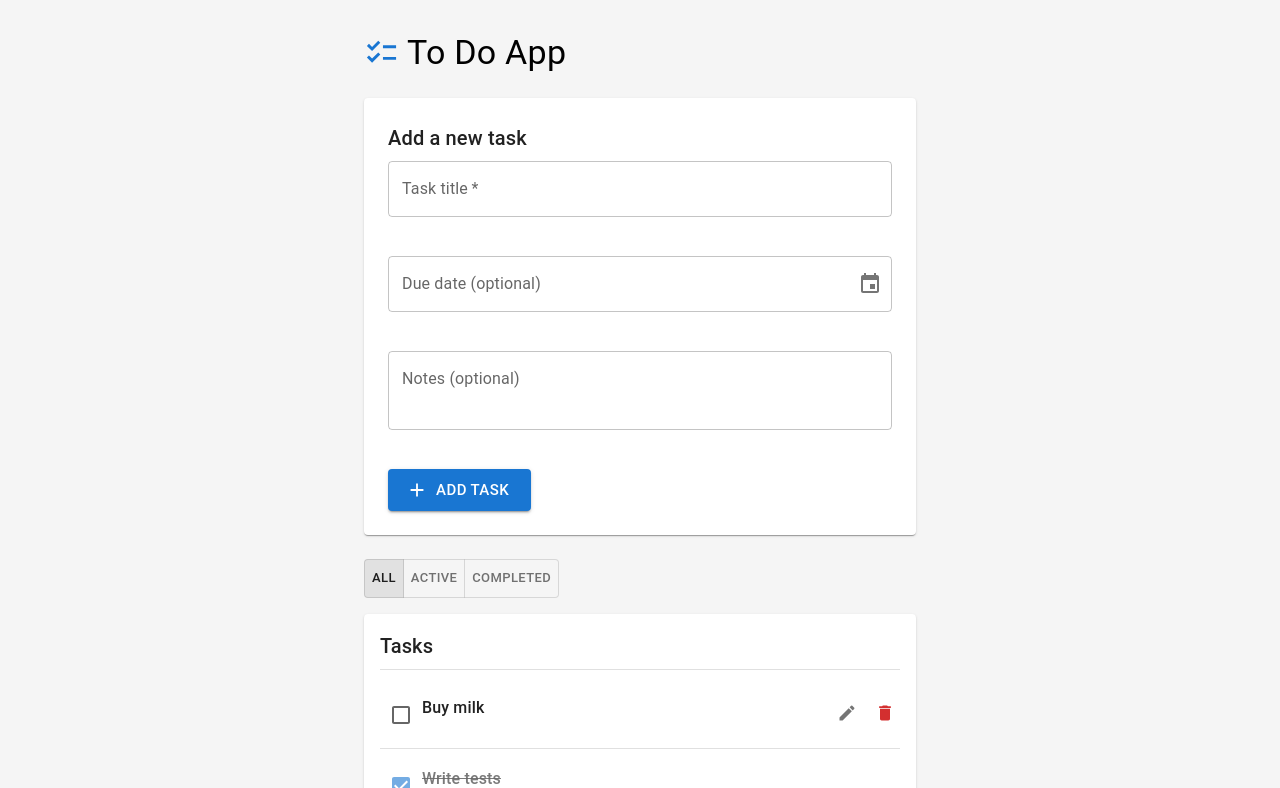
Scenario: App › opens and saves the edit dialog
Click the button named "edit task: buy milk".
click(847, 713)  # box [832,698,862,728]
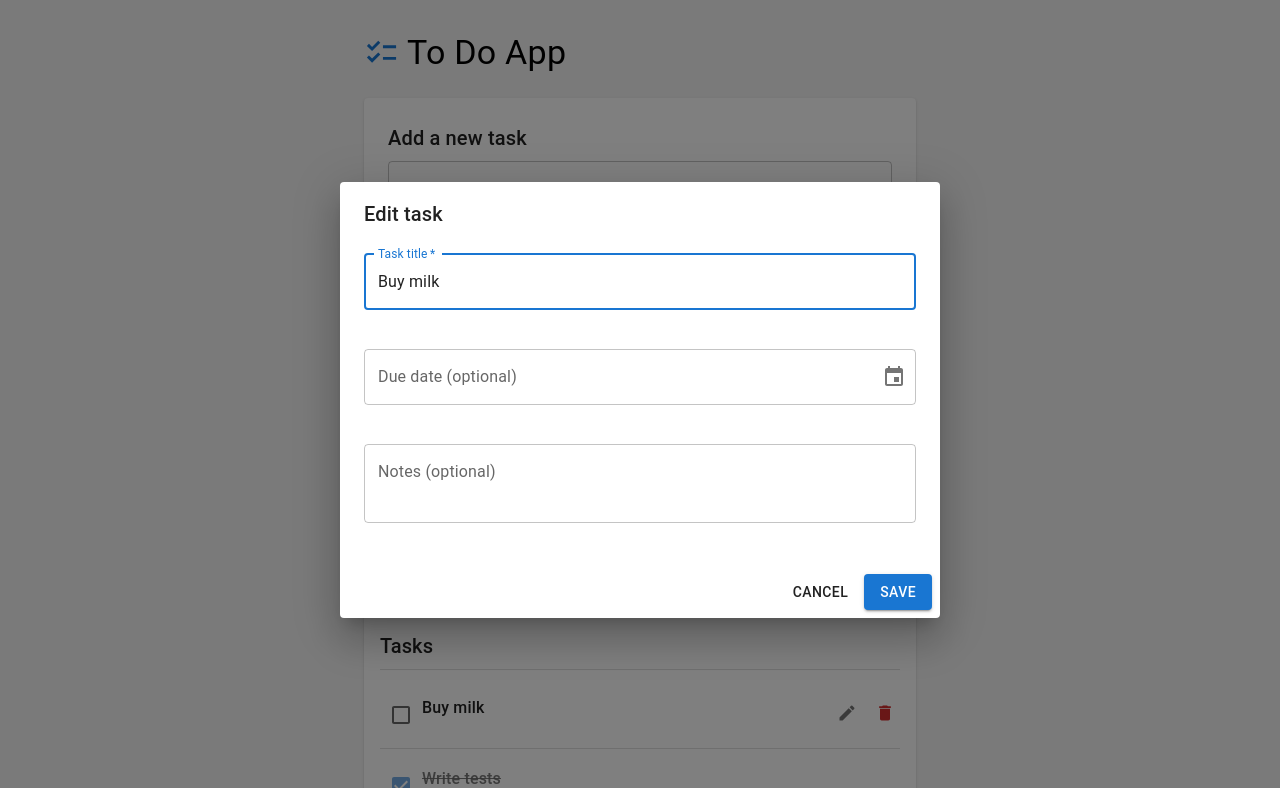
Expected: the field showing "Buy milk" is shown
Replace the text in the field labelled "Task title *" with "Buy oat milk" at (640, 282), box [364,254,916,310]
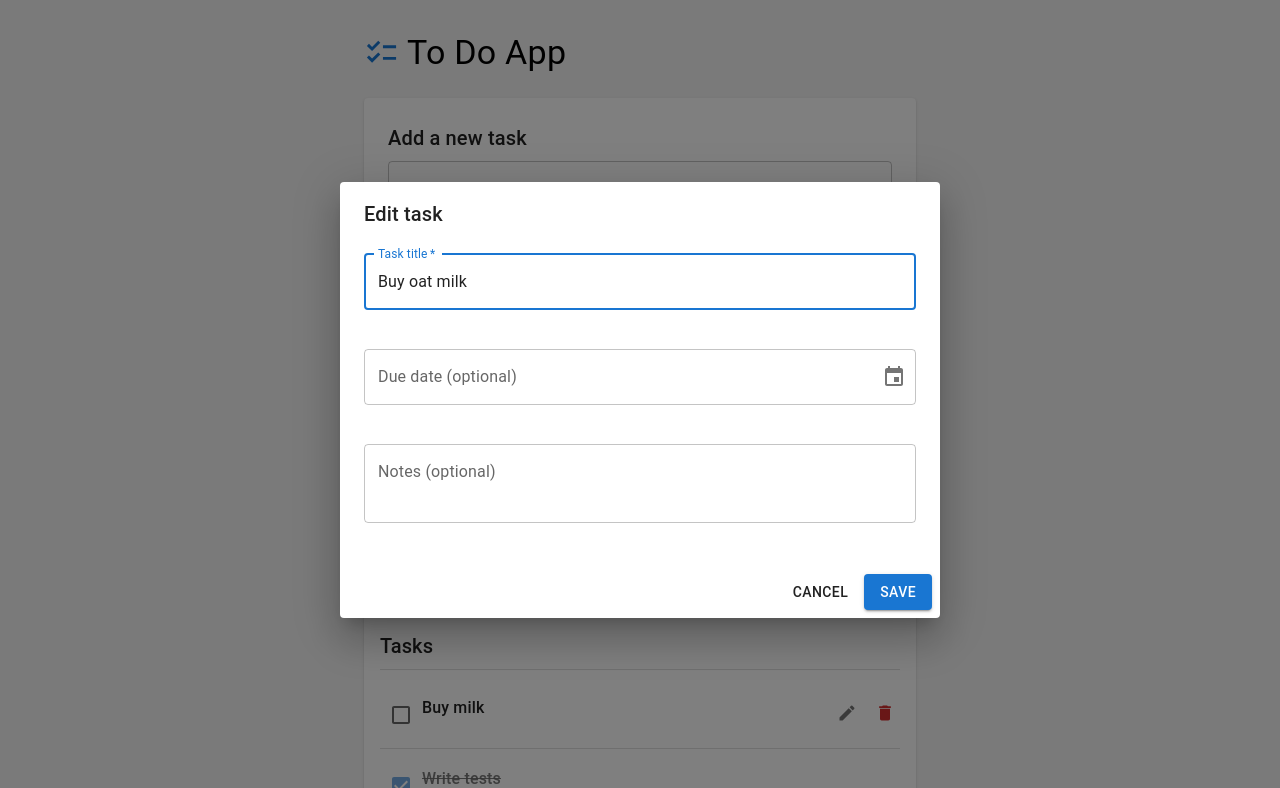
Click the button "Save".
click(898, 592)  # box [864,574,932,610]
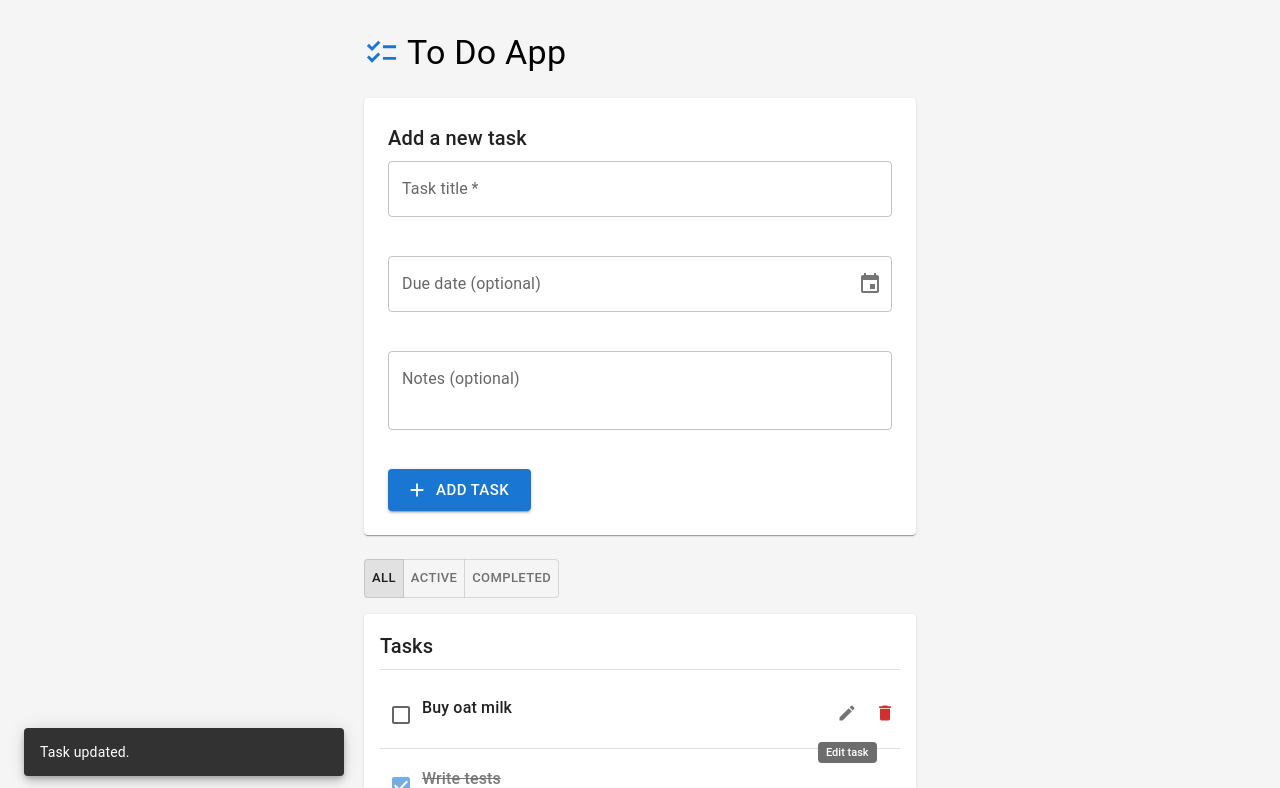
Expected: the dialog is gone
Expected: the text "Buy oat milk" is shown, [422,698,512,717]
